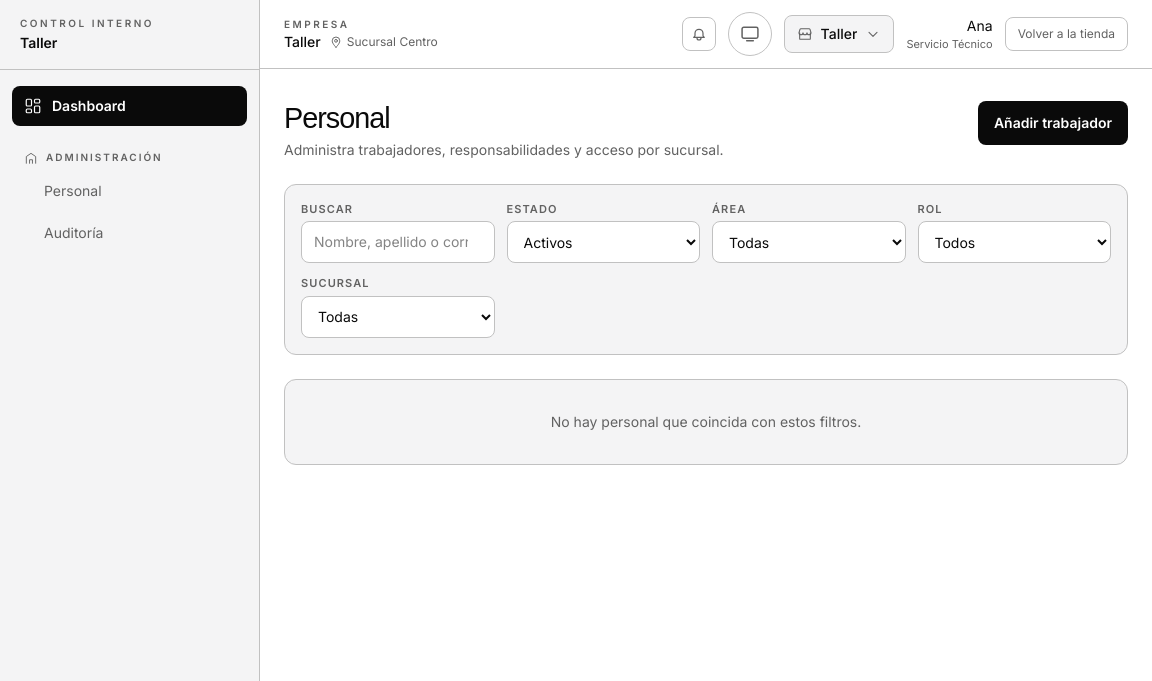
Personal · invitación › SELECTED invites only into branches it reaches, never to all of them
Click the button "Añadir trabajador" at (1053, 123), box [978,101,1128,145]
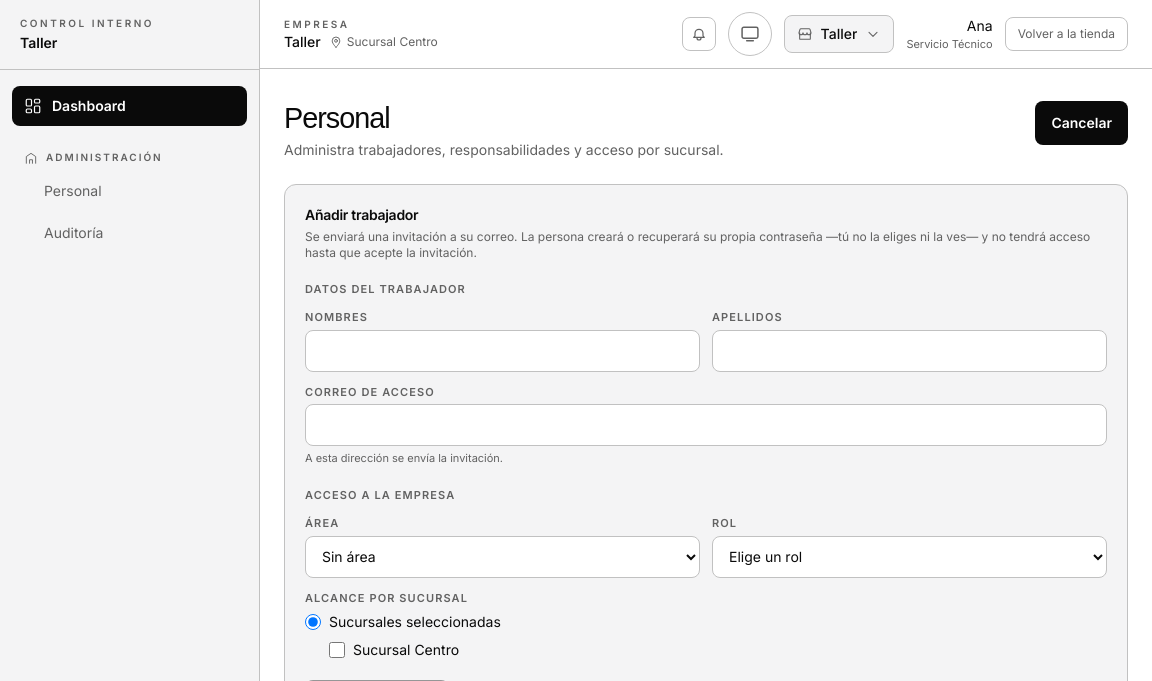
Expected: the radio button labelled "Sucursales seleccionadas" is checked, [305,614,321,630]
Expected: the checkbox labelled "Sucursal Centro" is shown, [329,642,345,658]
